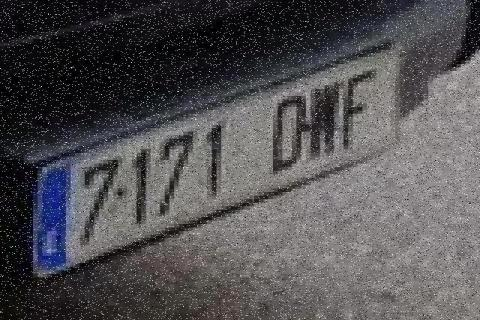LicensePlate: (28, 38, 408, 283)
